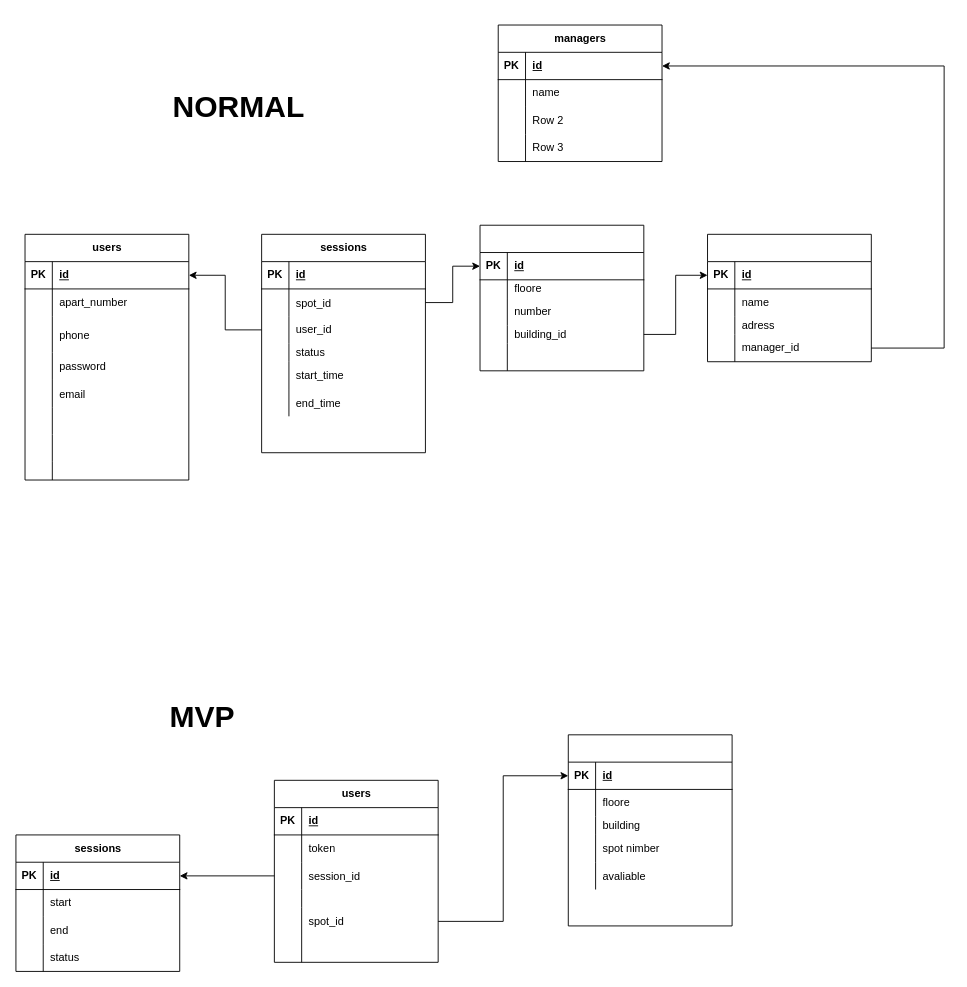
Image size: 967x987. Some labels were removed from this diagram. The shapes that lost their labels are listed below. From the top down, each one's box as (x1, y1, x2, y2) in pixels, then its label:
(479, 224, 644, 371): spoits
(707, 233, 871, 362): buildings
(567, 734, 732, 926): spots
